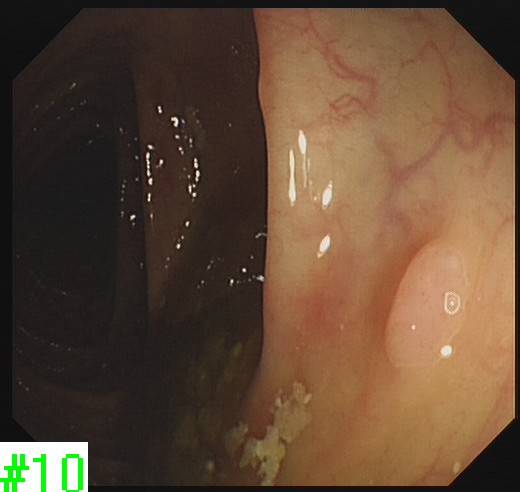adenoma: (382, 238, 475, 373)
